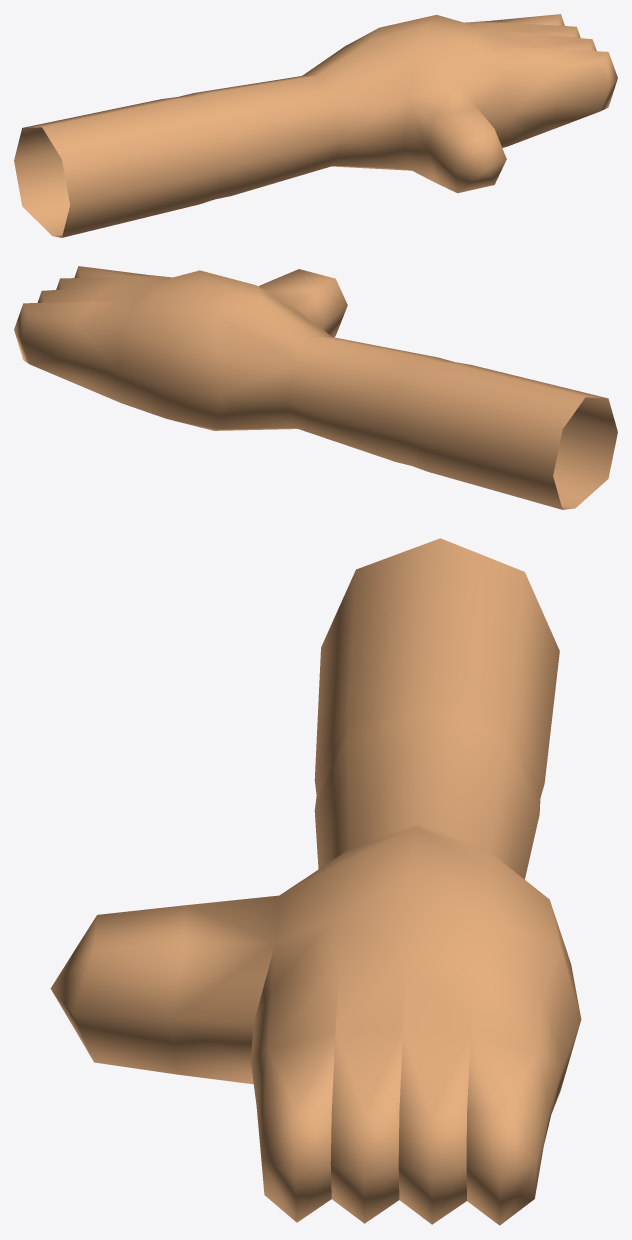
Rendered from BrazoIzq.obj.
3 renders of one model, top to bottom at view 1: azimuth 30°, elevation 25°; view 2: azimuth 150°, elevation 25°; view 3: azimuth 270°, elevation 25°, orthographic. The views are drawn at different scales.
Parts seen in each view (by area): view 1: BrazoIzq:polySurface2Mesh3; view 2: BrazoIzq:polySurface2Mesh3; view 3: BrazoIzq:polySurface2Mesh3.
Boxes of the visible parts, bbox=[...] form: BrazoIzq:polySurface2Mesh3: bbox=[14, 14, 617, 237]; BrazoIzq:polySurface2Mesh3: bbox=[14, 266, 617, 509]; BrazoIzq:polySurface2Mesh3: bbox=[50, 538, 581, 1225].
Size of the model in its own units: 0.1993 by 0.0467 by 0.0842.
1 material, 1 textured.
